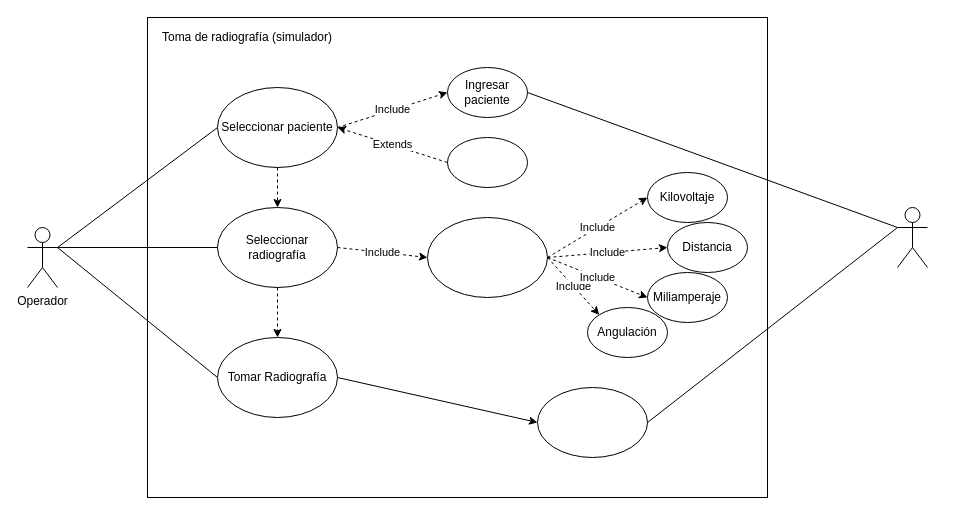
Image size: 957x515. Some labels were removed from this diagram. The shapes that lost their labels are listed below. From the top down, each one's centre as x and y in pixels, then its label:
(487,162): Eliminar paciente
(487,257): Seleccionar parámetros
(912,237): "Paciente"
(592,422): Entregar informe de dosis
